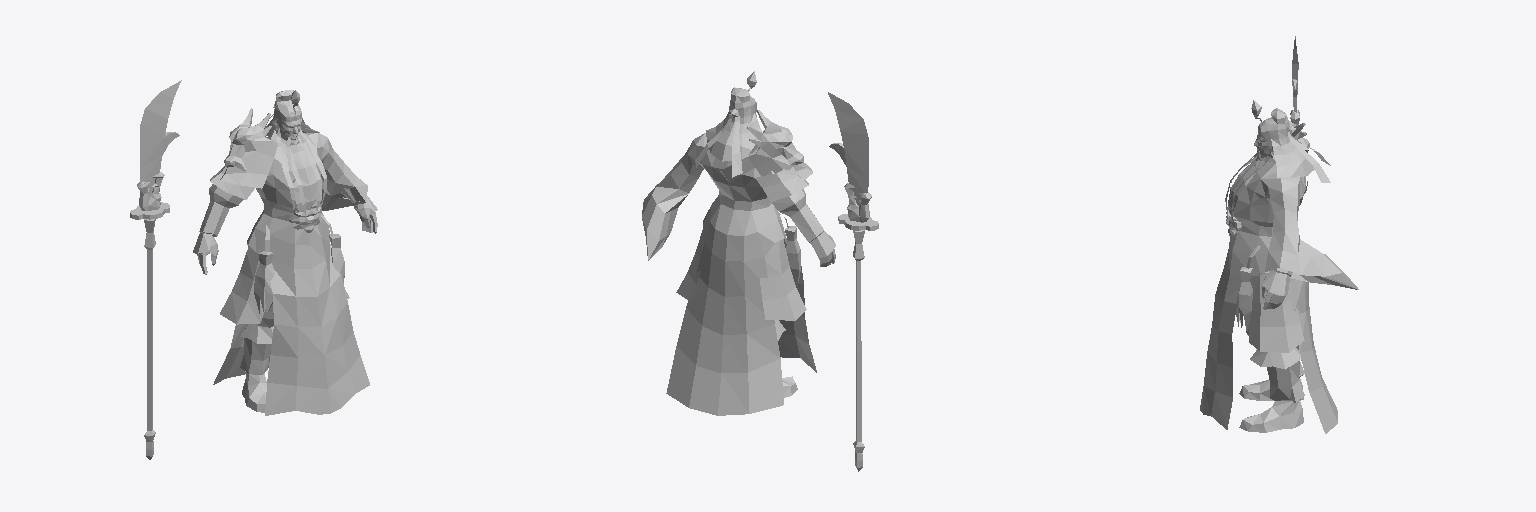
Rendered from guanyu.obj.
The picture shows the model from 3 angles: view 1: azimuth 30°, elevation 25°; view 2: azimuth 150°, elevation 25°; view 3: azimuth 270°, elevation 25°; orthographic projection.
Visible parts, largest first — view 1: default, _1; view 2: default, _1; view 3: default.
Boxes of the visible parts, x1,y1,x2,y2 form: default: [193, 90, 377, 415]; _1: [130, 80, 181, 459]; default: [642, 71, 835, 415]; _1: [828, 92, 878, 471]; default: [1200, 100, 1358, 433].
Size of the model in its own units: 2.93 by 4.45 by 1.73.